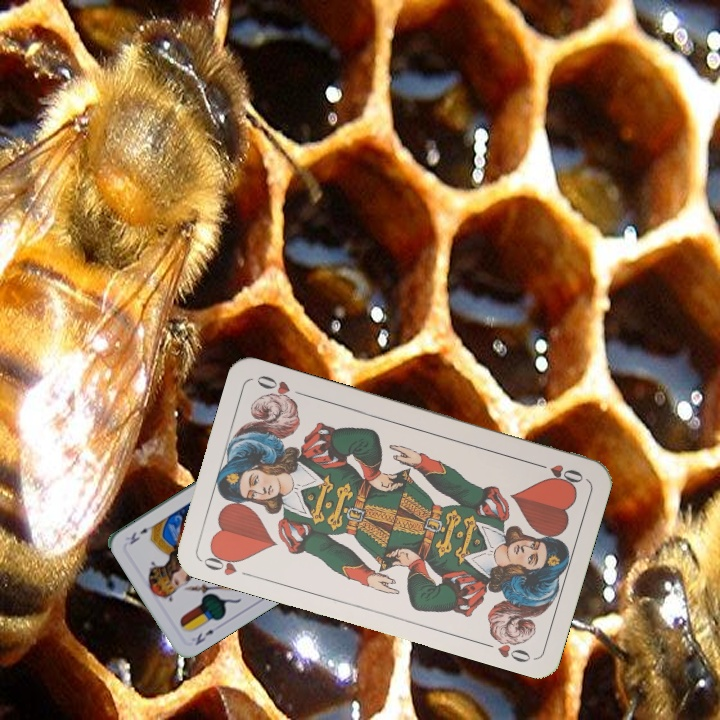EK: (191, 625, 217, 648)
HO: (529, 458, 586, 487), (199, 546, 247, 578)
